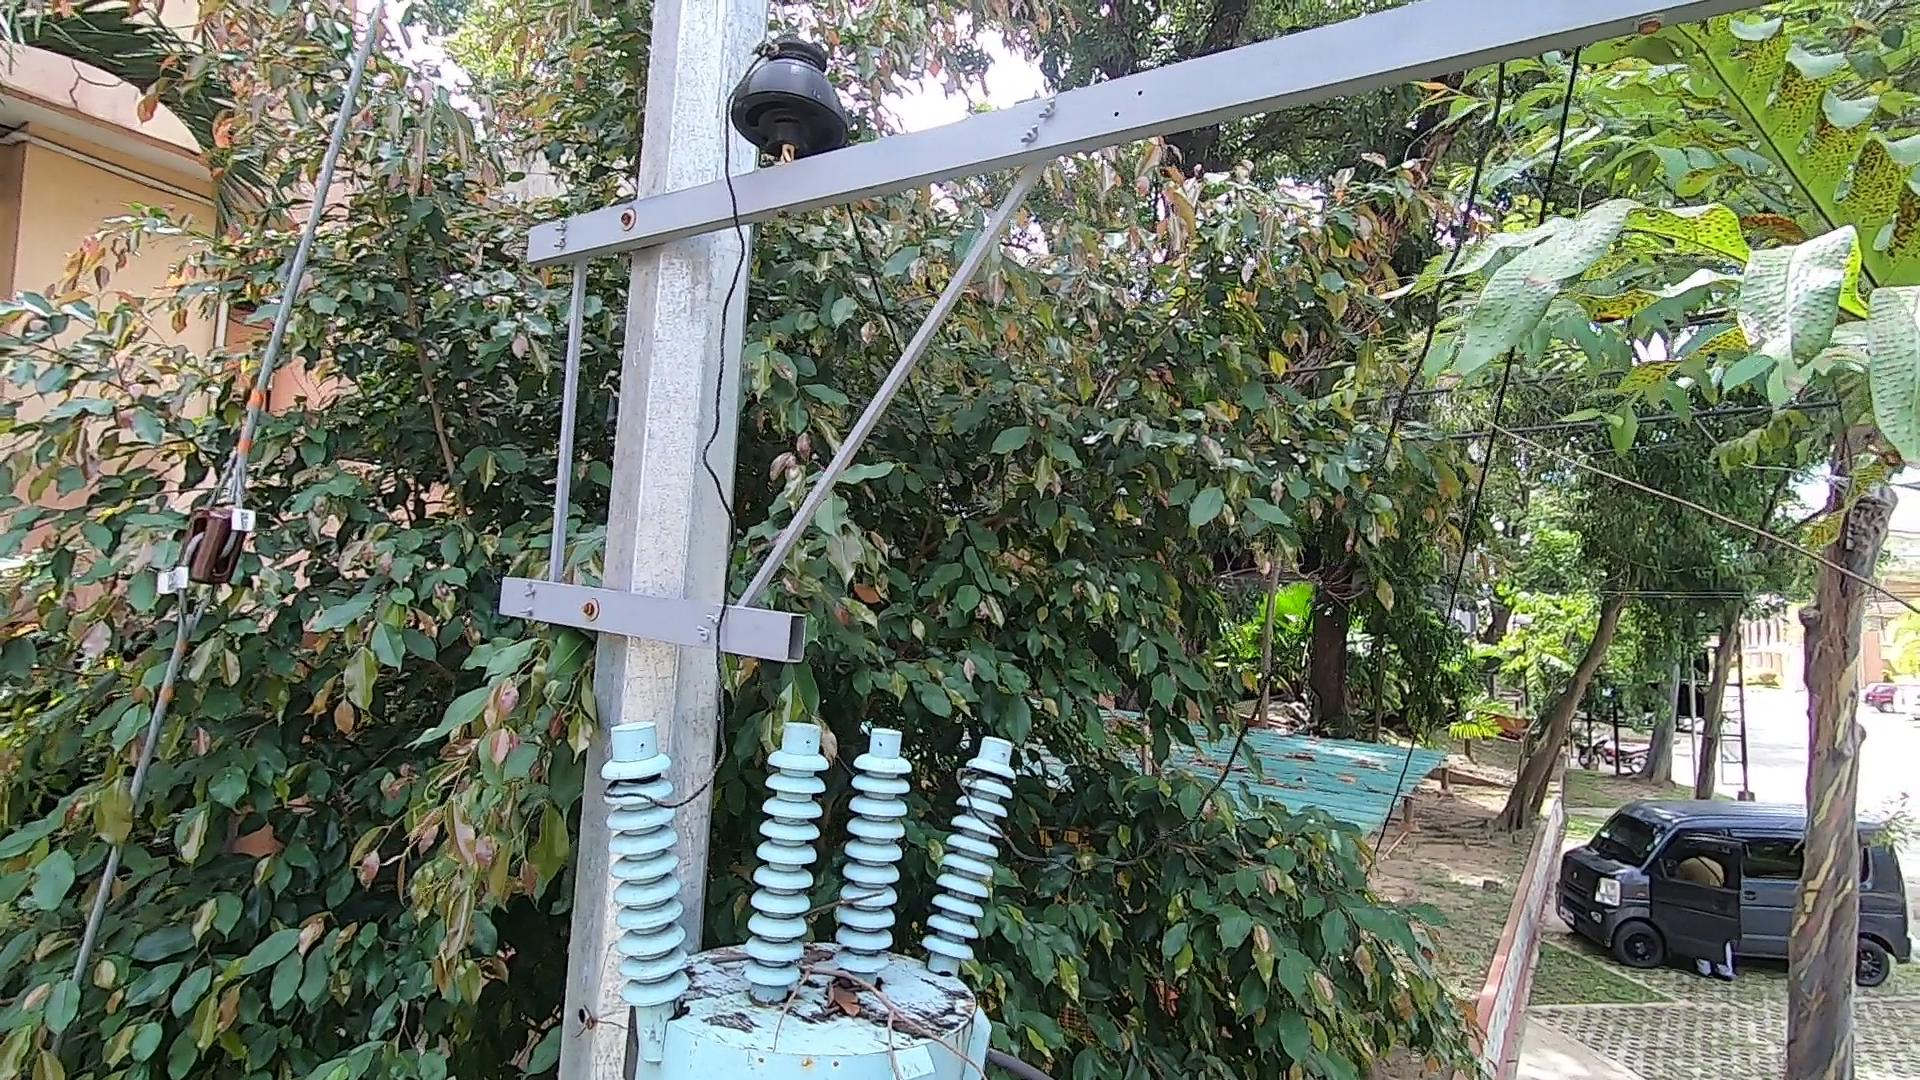leaf: (820, 973, 877, 1030), (790, 930, 833, 964)
tree branch: (770, 932, 1033, 1080)
